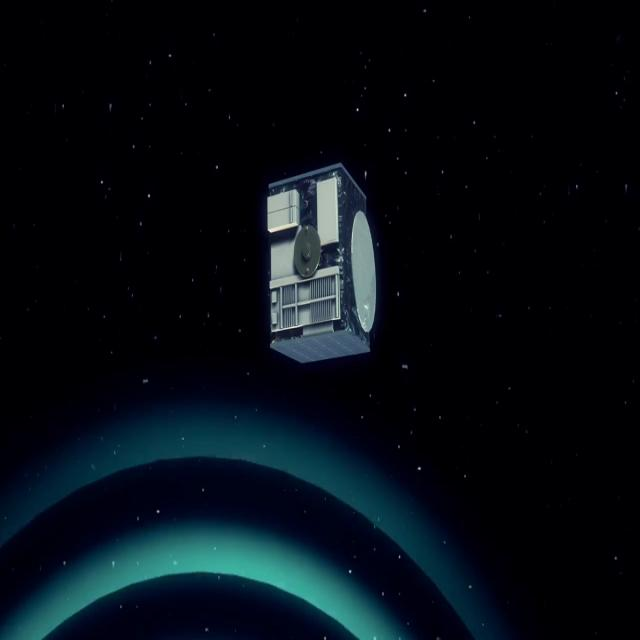medium_debris: (246, 142, 398, 390)
